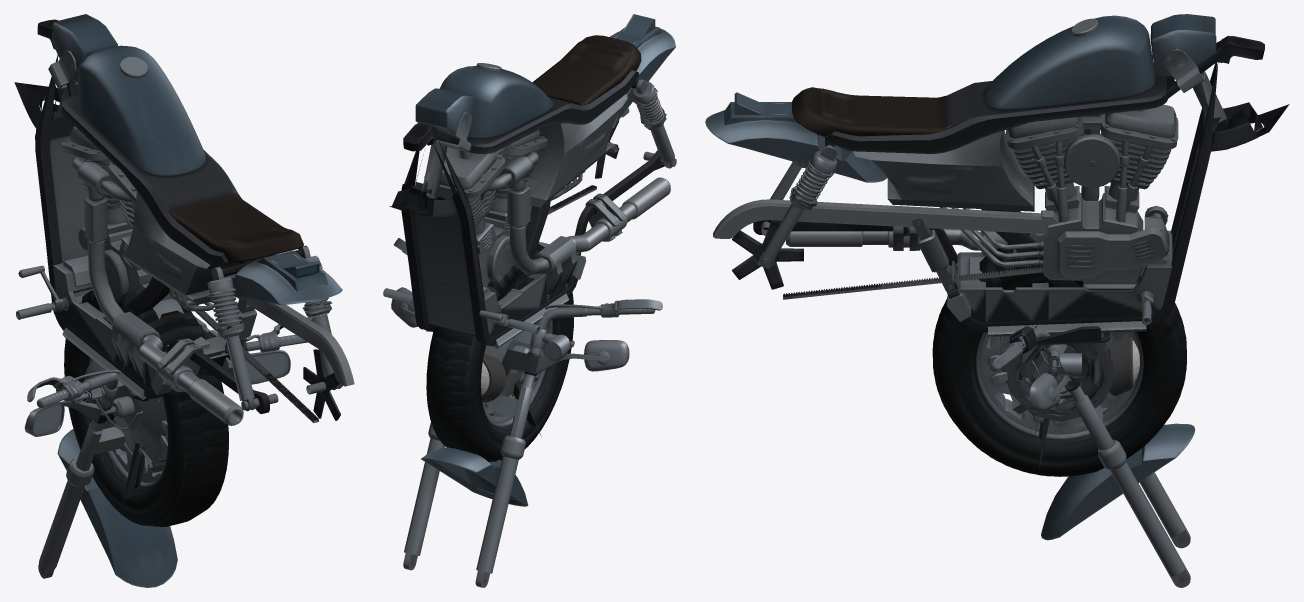
File: HarleyCustom.fbx
The picture shows the model from 3 angles, left to right: view 1: azimuth 30°, elevation 25°; view 2: azimuth 150°, elevation 25°; view 3: azimuth 270°, elevation 25°; orthographic projection. The views are drawn at different scales.
Visible parts, largest first — view 1: hc_Body, hc_GasTank, hc_WheelFront, hc_WheelRear, hc_Steering, hc_FenderFront, hc_Seat, hc_Muffler, hc_FenderRear, hc_Fork, hc_RearSuspension; view 2: hc_Body, hc_WheelFront, hc_Steering, hc_WheelRear, hc_Fork, hc_GasTank, hc_Seat, hc_FenderFront, hc_FenderRear, hc_Muffler, hc_RearSuspension, hc_Headlight; view 3: hc_Body, hc_WheelFront, hc_GasTank, hc_WheelRear, hc_Muffler, hc_Seat, hc_FenderRear, hc_FenderFront, hc_Fork, hc_Steering, hc_DiscRear, hc_RearSuspension (+1 smaller).
Part boxes in pixels (x1=…): hc_Body: x1=14, y1=14, x2=342, y2=423; hc_GasTank: x1=77, y1=45, x2=205, y2=176; hc_WheelFront: x1=64, y1=290, x2=228, y2=526; hc_WheelRear: x1=64, y1=290, x2=228, y2=526; hc_Steering: x1=24, y1=317, x2=311, y2=472; hc_FenderFront: x1=57, y1=429, x2=177, y2=587; hc_Seat: x1=168, y1=193, x2=303, y2=262; hc_Muffler: x1=138, y1=297, x2=354, y2=425; hc_FenderRear: x1=213, y1=250, x2=342, y2=304; hc_Fork: x1=38, y1=425, x2=144, y2=578; hc_RearSuspension: x1=206, y1=255, x2=341, y2=411; hc_Body: x1=383, y1=70, x2=676, y2=348; hc_WheelFront: x1=426, y1=244, x2=573, y2=461; hc_Steering: x1=391, y1=238, x2=662, y2=438; hc_WheelRear: x1=426, y1=244, x2=573, y2=461; hc_Fork: x1=403, y1=379, x2=541, y2=587; hc_GasTank: x1=440, y1=63, x2=553, y2=139; hc_Seat: x1=532, y1=35, x2=641, y2=105; hc_FenderFront: x1=421, y1=447, x2=528, y2=506; hc_FenderRear: x1=609, y1=14, x2=675, y2=127; hc_Muffler: x1=567, y1=108, x2=670, y2=252; hc_RearSuspension: x1=632, y1=81, x2=674, y2=168; hc_Headlight: x1=481, y1=354, x2=506, y2=402; hc_Body: x1=732, y1=14, x2=1289, y2=345; hc_WheelFront: x1=932, y1=248, x2=1186, y2=476; hc_GasTank: x1=983, y1=15, x2=1155, y2=111; hc_WheelRear: x1=933, y1=244, x2=1186, y2=476; hc_Muffler: x1=713, y1=199, x2=1057, y2=250; hc_Seat: x1=792, y1=87, x2=946, y2=141; hc_FenderRear: x1=705, y1=92, x2=887, y2=182; hc_FenderFront: x1=1041, y1=423, x2=1195, y2=540; hc_Fork: x1=1034, y1=405, x2=1190, y2=587; hc_Steering: x1=990, y1=324, x2=1113, y2=450; hc_DiscRear: x1=1006, y1=334, x2=1114, y2=422; hc_RearSuspension: x1=758, y1=150, x2=837, y2=268.
Size of the model in its own units: 11.11 by 19.2 by 18.66.
